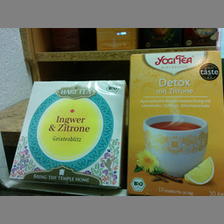tea: (126, 51, 224, 195), (9, 81, 126, 190)
